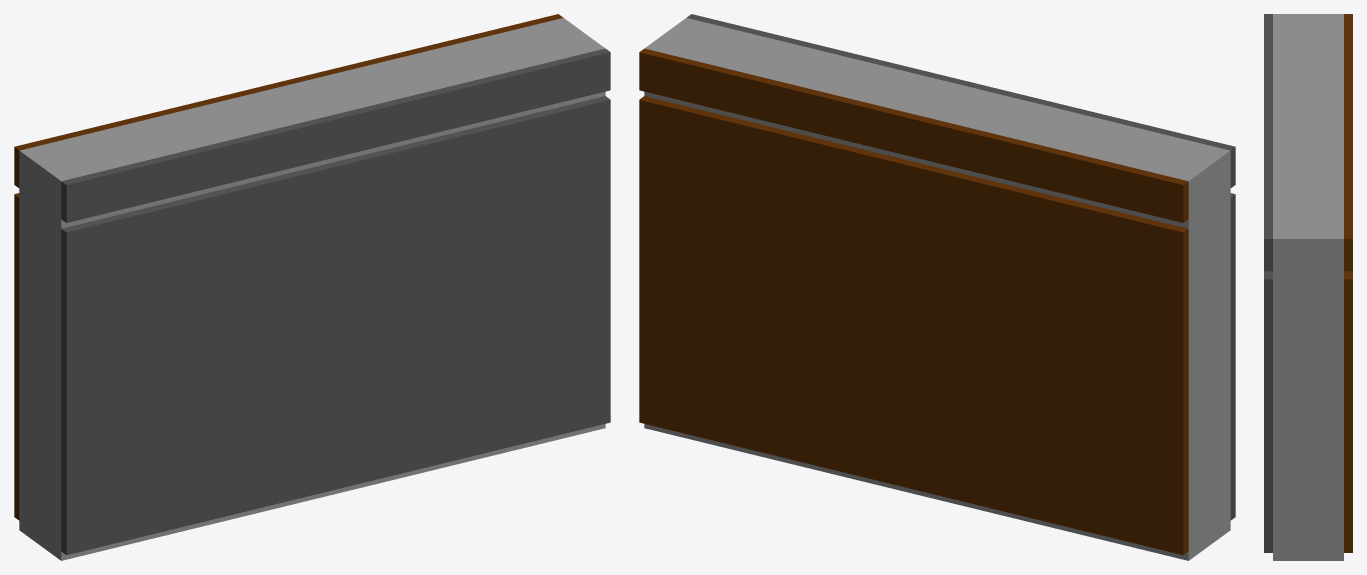
Rendered from Manufacturing Wall 5.obj.
The picture shows the model from 3 angles, left to right: view 1: azimuth 30°, elevation 25°; view 2: azimuth 150°, elevation 25°; view 3: azimuth 270°, elevation 25°; orthographic projection. The views are drawn at different scales.
Size of the model in its own units: 60 by 40 by 10.
1 material, 1 textured.
